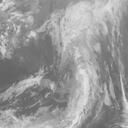cyclone: (32, 34, 103, 103)
